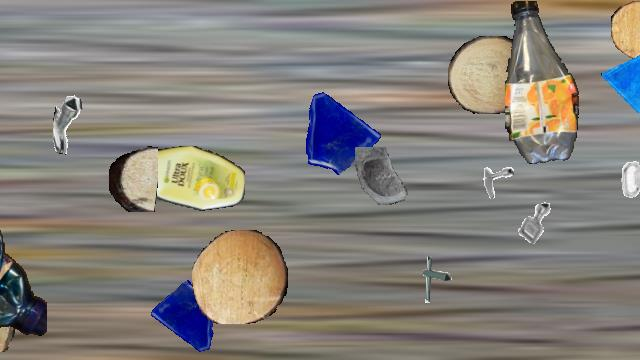glass: (293, 85, 383, 175), (149, 280, 227, 358), (349, 147, 417, 215), (601, 50, 640, 112)
metal: (53, 95, 115, 157), (507, 195, 563, 251), (408, 253, 460, 305), (472, 156, 514, 198), (613, 148, 640, 208)
plastic: (505, 1, 581, 163), (132, 146, 244, 212), (0, 206, 46, 342)
wood: (192, 230, 288, 324), (448, 36, 530, 114), (109, 145, 157, 211), (0, 227, 19, 359), (611, 1, 640, 59)
